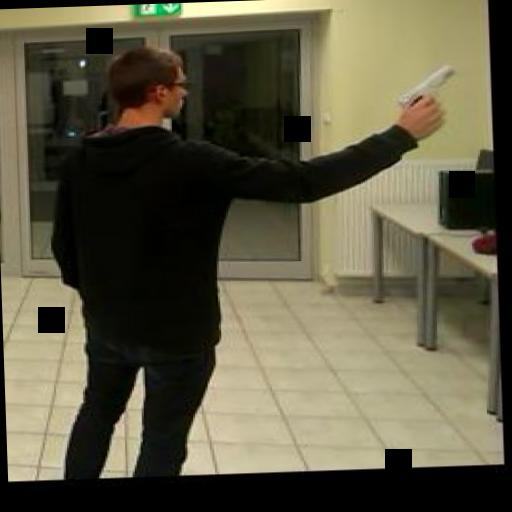Handgun: (388, 62, 456, 124)
